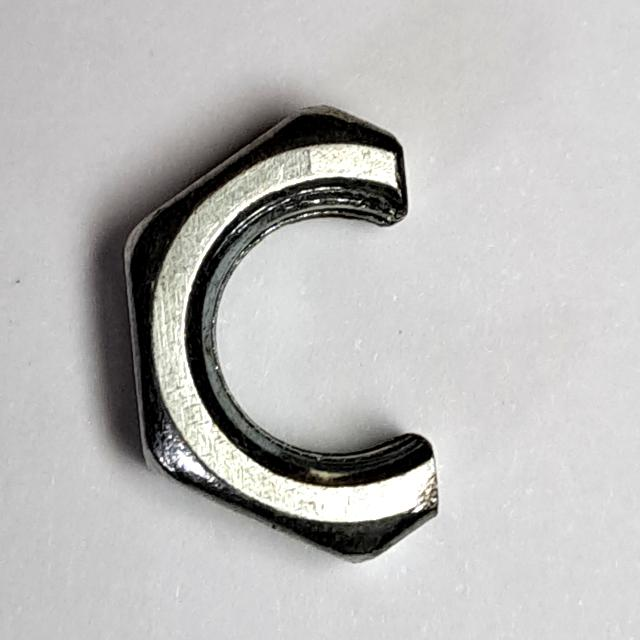Fracture: (109, 85, 476, 576)
